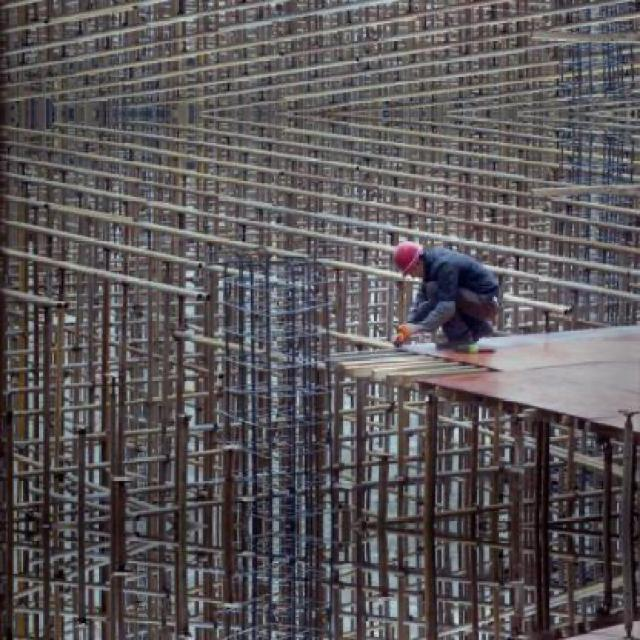con casco: (390, 220, 445, 312)
